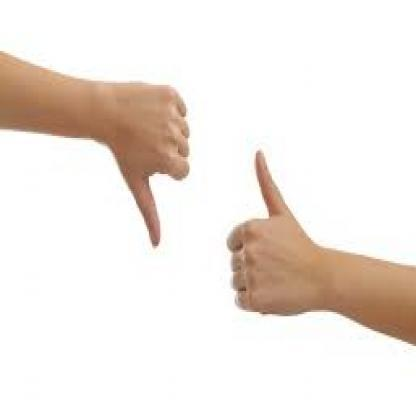thumb_down: (108, 74, 196, 253)
thumb_up: (224, 144, 320, 318)
